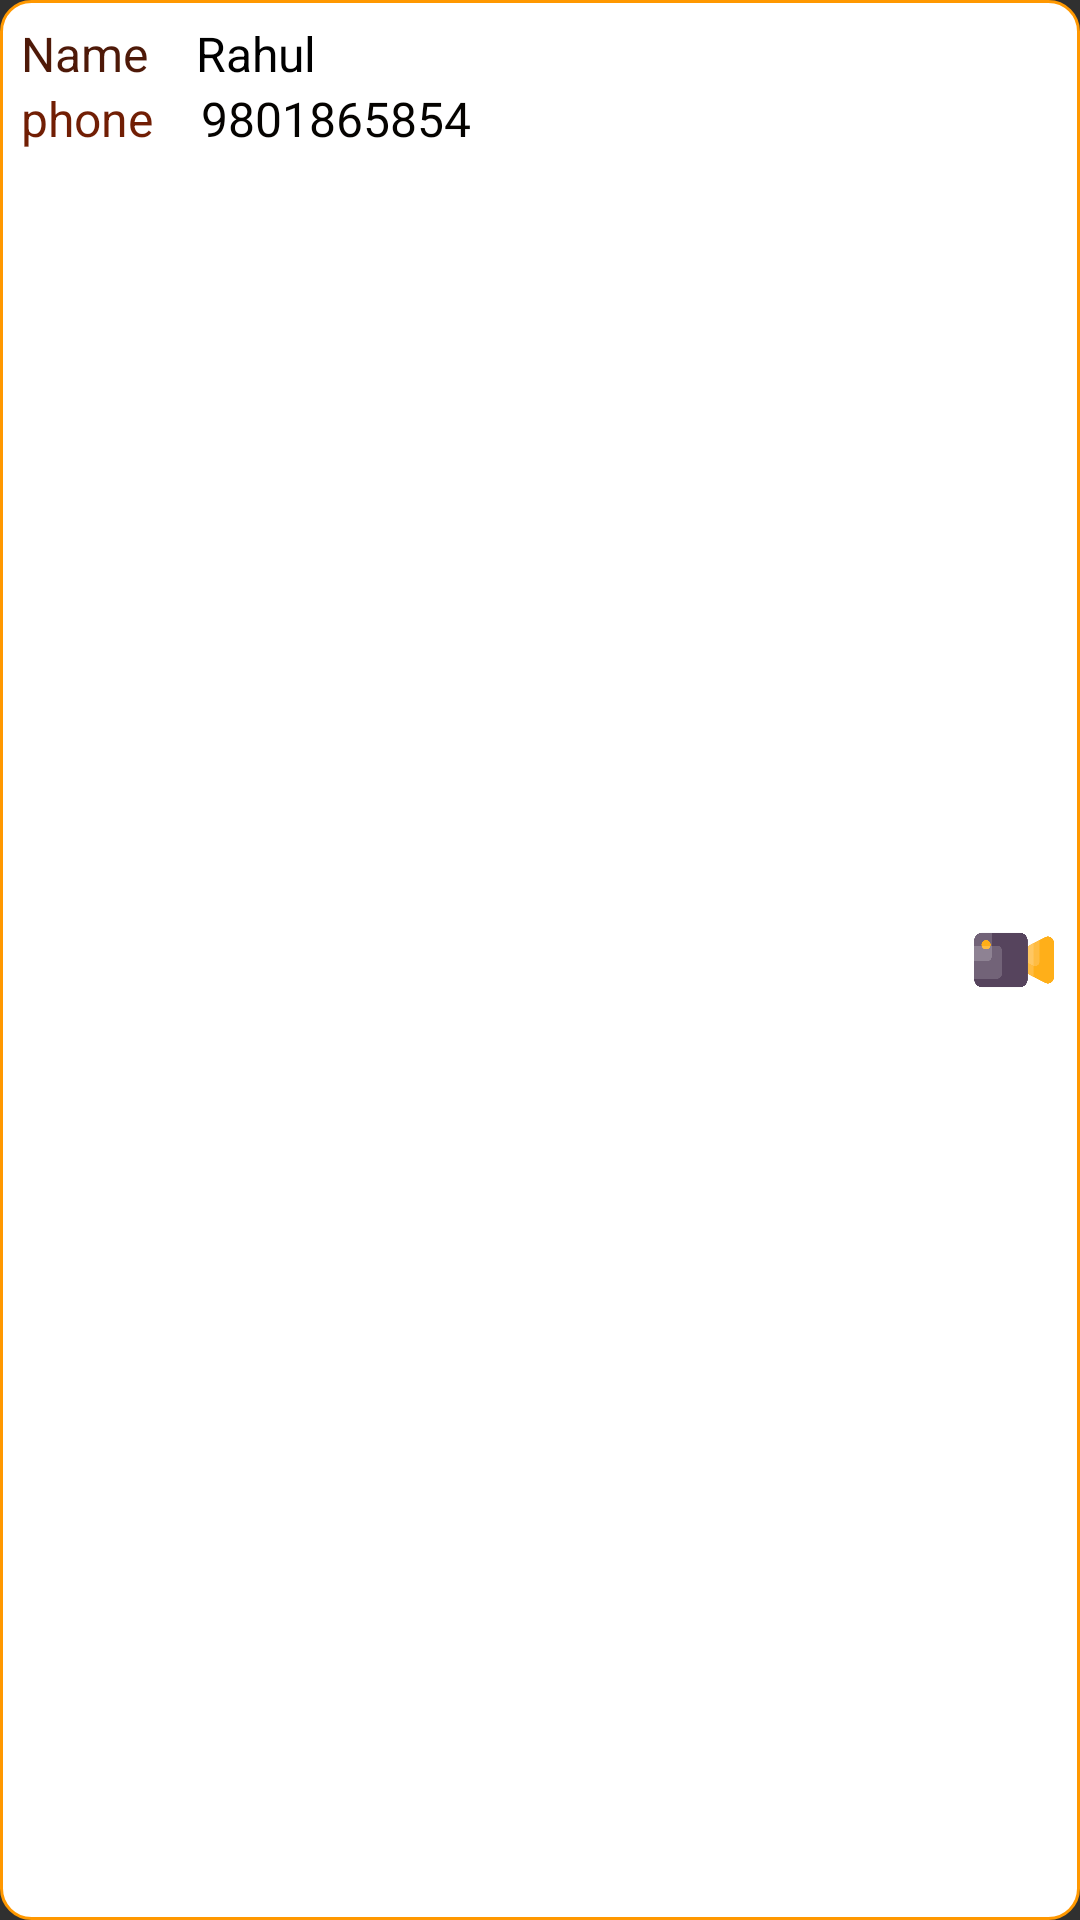

Locate icon controls on the screen. Image size 1080px×1920px, boxes as (x1, y1, x2, y2).
videocallbutton: (974, 933, 1054, 987)
